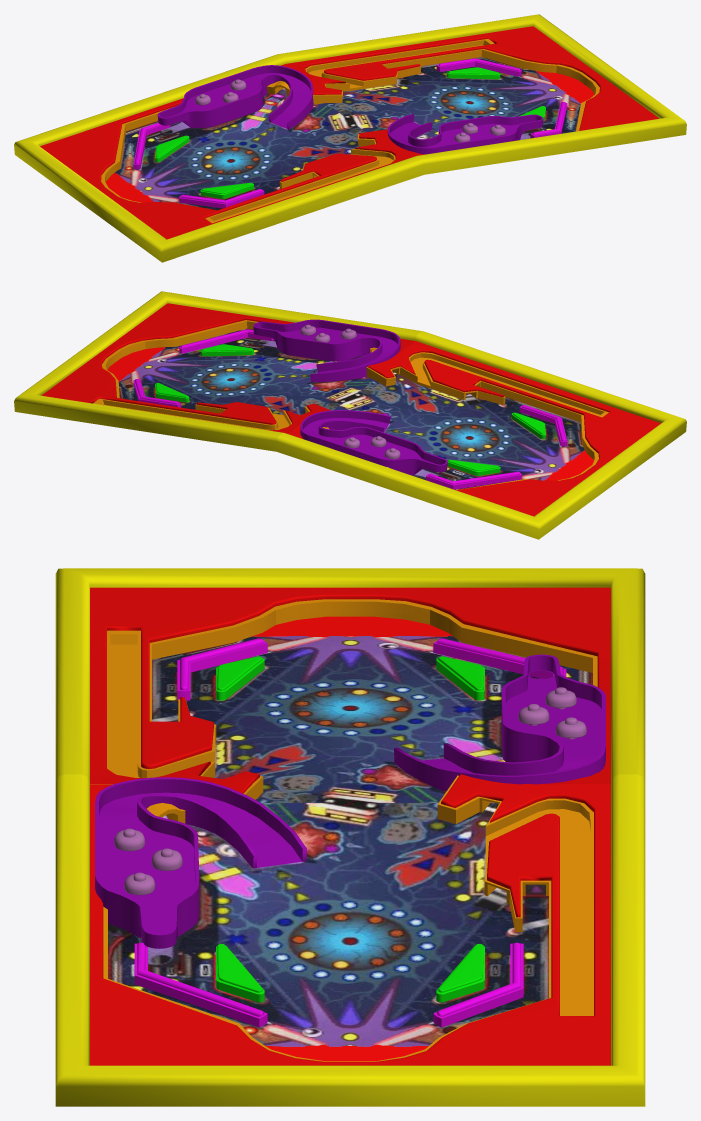
The model's file is DoneDoneDoneIThink.fbx.
The picture shows the model from 3 angles, top to bottom: view 1: azimuth 30°, elevation 25°; view 2: azimuth 150°, elevation 25°; view 3: azimuth 270°, elevation 25°; orthographic projection. The views are drawn at different scales.
Visible parts, largest first — view 1: polySurface7 (×2), polySurface8 (×2), polySurface6 (×2), pPlane5 (×2), polySurface1 (×2), pCube8 (×2), pCube3 (×2), pCube9 (×2), pCube7; view 2: polySurface7 (×2), polySurface8 (×2), polySurface6 (×2), pPlane5 (×2), polySurface1 (×2), pCube9 (×2), pCube7 (×2), pCube8 (×2), pCube3 (×2); view 3: polySurface7 (×2), polySurface8 (×2), polySurface6 (×2), pPlane5 (×2), polySurface1 (×2), pCube9 (×2), pCube8 (×2), pCube7 (×2), pCube3 (×2).
Boxes of the visible parts, <box> form: polySurface7 (×2): <box>106,57,594,210</box>; polySurface8 (×2): <box>14,14,686,262</box>; polySurface6 (×2): <box>40,26,658,239</box>; pPlane5 (×2): <box>157,65,543,154</box>; polySurface1 (×2): <box>101,39,599,223</box>; pCube8 (×2): <box>179,58,521,208</box>; pCube3 (×2): <box>200,67,500,198</box>; pCube9 (×2): <box>133,102,567,169</box>; pCube7: <box>155,135,189,162</box>; polySurface7 (×2): <box>107,328,593,489</box>; polySurface8 (×2): <box>14,291,686,539</box>; polySurface6 (×2): <box>42,303,660,516</box>; pPlane5 (×2): <box>253,319,447,475</box>; polySurface1 (×2): <box>93,320,608,489</box>; pCube9 (×2): <box>179,329,521,489</box>; pCube7 (×2): <box>200,344,500,475</box>; pCube8 (×2): <box>133,379,567,446</box>; pCube3 (×2): <box>155,383,545,439</box>; polySurface7 (×2): <box>108,616,592,1061</box>; polySurface8 (×2): <box>55,568,645,1106</box>; polySurface6 (×2): <box>90,587,610,1065</box>; pPlane5 (×2): <box>95,654,605,948</box>; polySurface1 (×2): <box>90,599,597,1061</box>; pCube9 (×2): <box>134,638,566,1027</box>; pCube8 (×2): <box>177,638,523,1027</box>; pCube7 (×2): <box>216,656,484,1002</box>; pCube3 (×2): <box>216,656,484,1002</box>.
Size of the model in its own units: 2778 by 193 by 1349.
